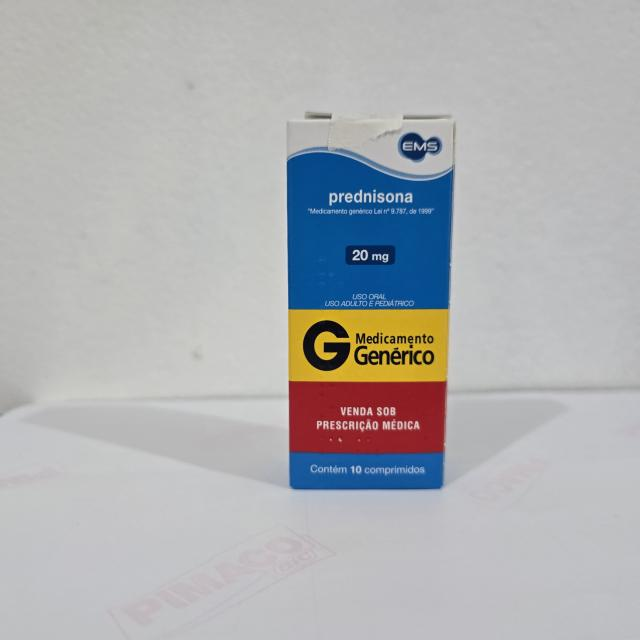prednisona: (282, 105, 460, 495)
